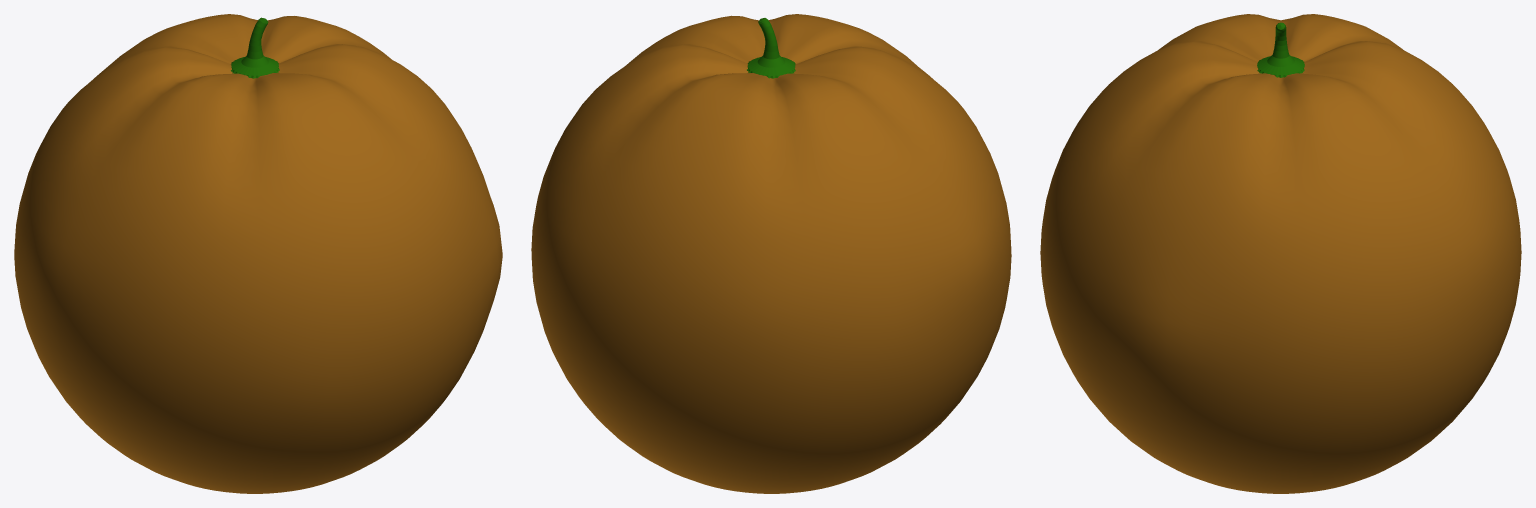
Rendered from Orange.fbx.
3 views of the same model, side by side, from view 1: azimuth 30°, elevation 25°; view 2: azimuth 150°, elevation 25°; view 3: azimuth 270°, elevation 25° (orthographic).
Parts seen in each view (by area): view 1: Orange; view 2: Orange; view 3: Orange.
Part boxes in pixels (x1=…): Orange: x1=14, y1=14, x2=502, y2=493; Orange: x1=531, y1=14, x2=1011, y2=493; Orange: x1=1040, y1=14, x2=1521, y2=493.
Size of the model in its own units: 320 by 330 by 317.
